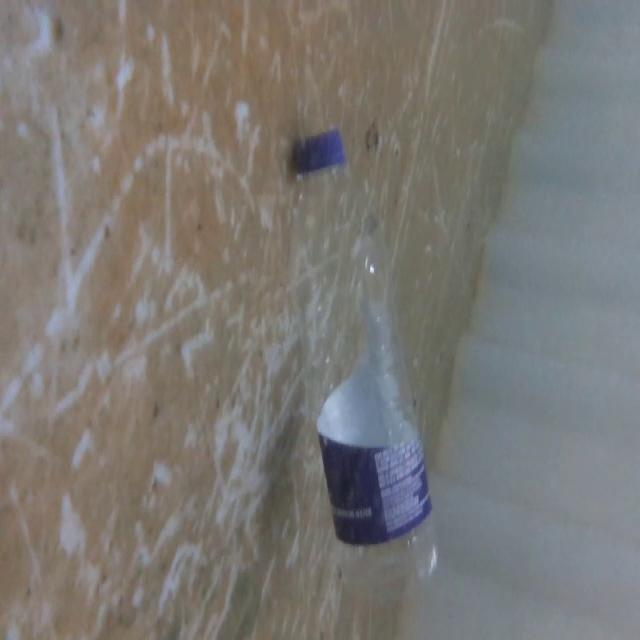plastic bottle: (290, 129, 451, 603)
